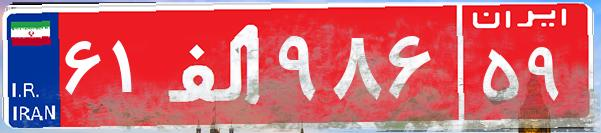1: (110, 28, 158, 105)
5: (475, 38, 525, 113)
6: (385, 28, 445, 110), (57, 26, 110, 107)
8: (330, 28, 385, 110)
9: (273, 28, 330, 110), (525, 38, 570, 115)
الف: (158, 15, 273, 115)
